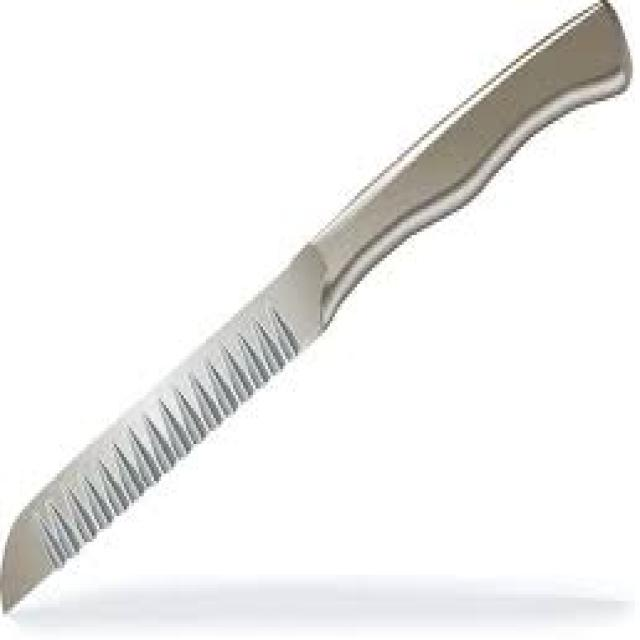Knife: (0, 0, 633, 614)
